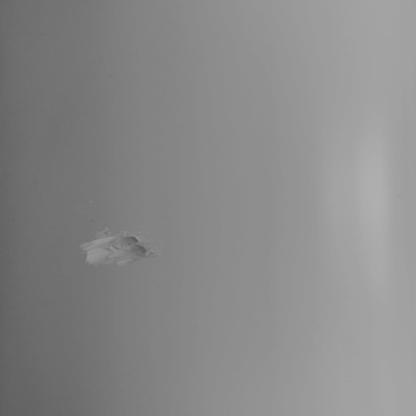sunshang: (78, 228, 155, 267)
